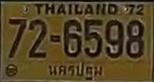2: (28, 18, 46, 57)
5: (84, 18, 102, 57)
6: (63, 19, 81, 56)
7: (8, 18, 26, 57)
8: (126, 19, 143, 57)
9: (105, 19, 123, 57)
NPT: (47, 61, 105, 82)
